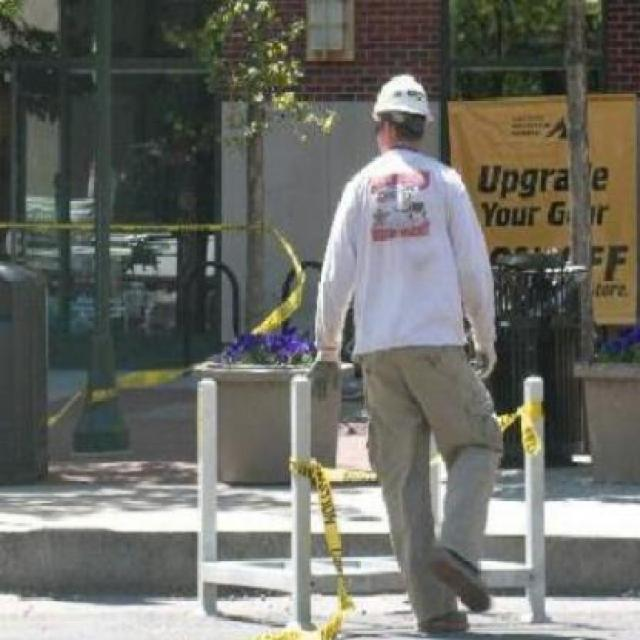Person: (318, 75, 508, 636)
